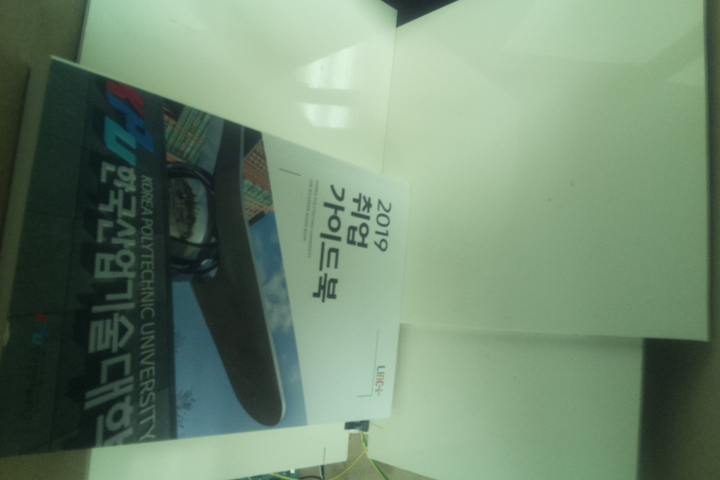book: (1, 50, 415, 461)
